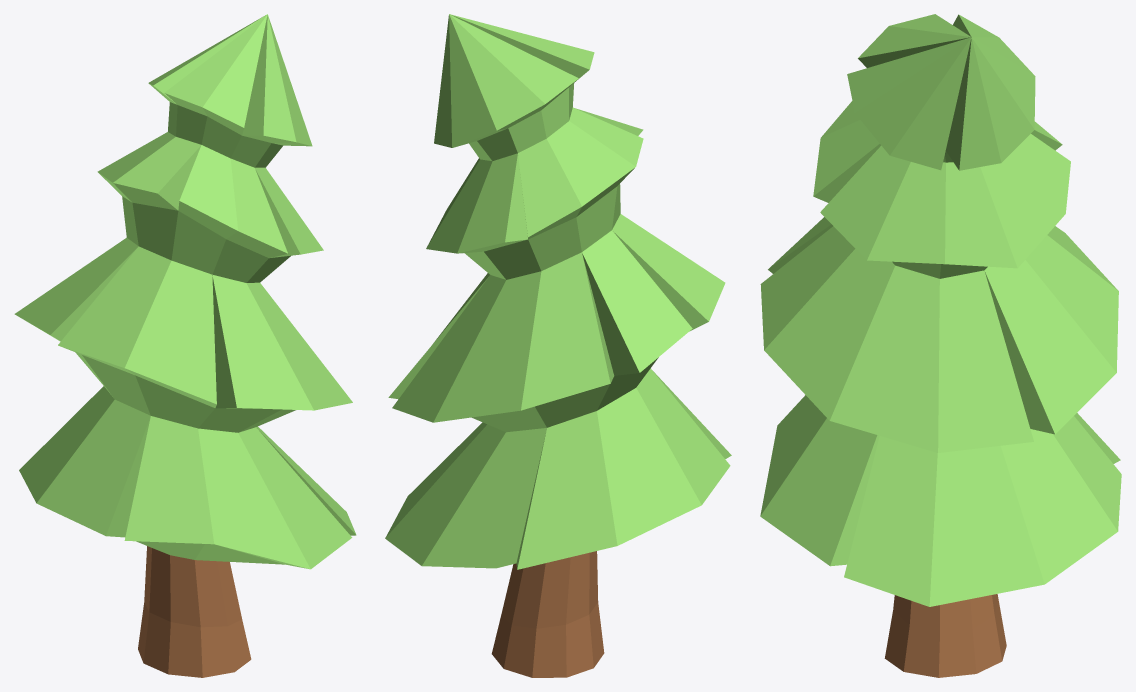
File: Tree4_1Rot.fbx
The picture shows the model from 3 angles, left to right: view 1: azimuth 30°, elevation 25°; view 2: azimuth 150°, elevation 25°; view 3: azimuth 270°, elevation 25°; orthographic projection. The views are drawn at different scales.
Parts seen in each view (by area): view 1: Tree4.1Rot; view 2: Tree4.1Rot; view 3: Tree4.1Rot.
Boxes of the visible parts, x1,y1,x2,y2 form: Tree4.1Rot: [14, 14, 356, 677]; Tree4.1Rot: [385, 14, 731, 677]; Tree4.1Rot: [760, 14, 1121, 677].
Bounding box in the file's own units: 255 × 499 × 248.
